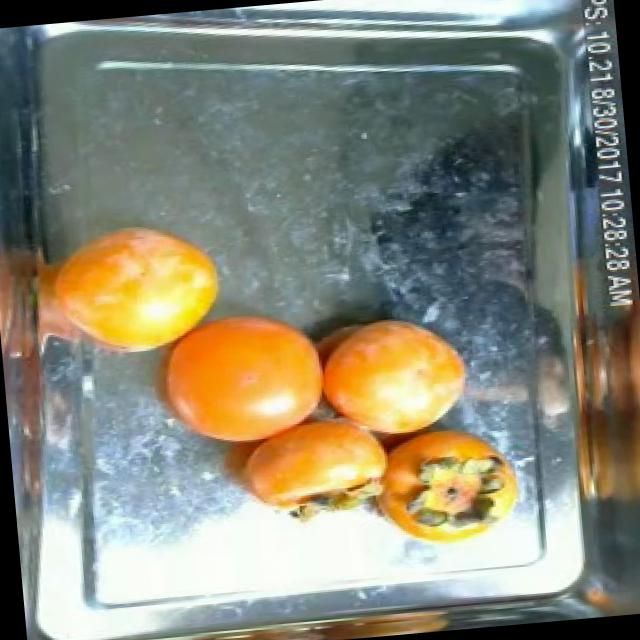Fruit: (31, 206, 240, 374), (299, 296, 485, 452)
